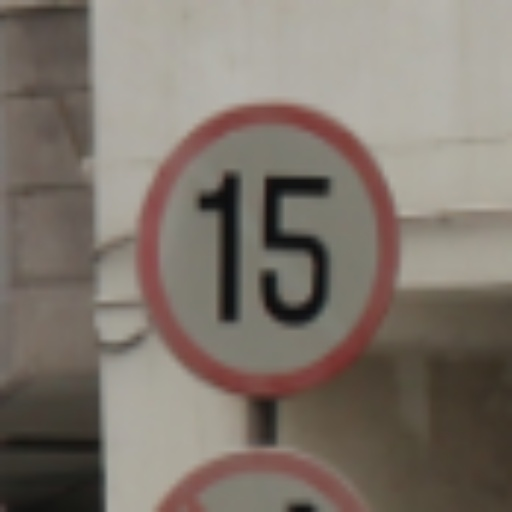Speed limit: (137, 120, 395, 362)
